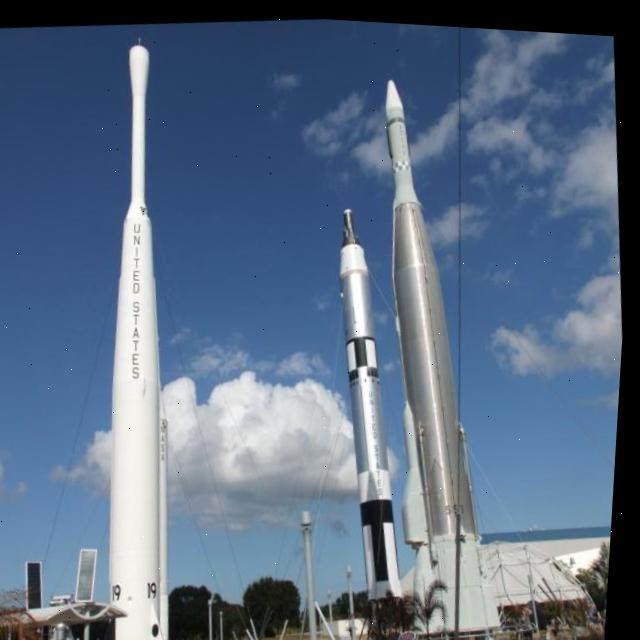missile: (360, 60, 547, 626), (86, 31, 204, 637), (320, 196, 432, 620)
